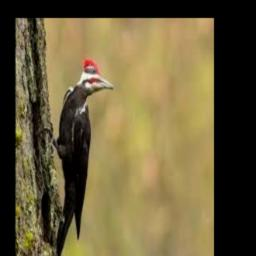Woodpecker: (42, 59, 113, 256)
